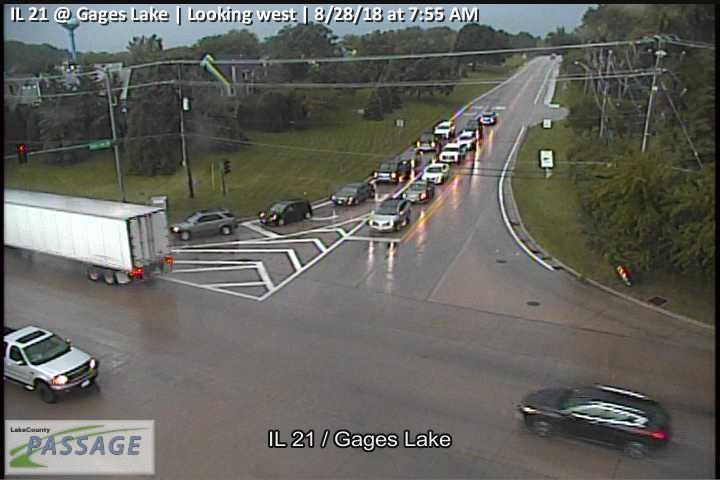SUV: (517, 383, 673, 459), (169, 208, 239, 241), (258, 197, 313, 226), (367, 199, 412, 232), (416, 133, 441, 150), (457, 130, 477, 151), (433, 120, 456, 138), (462, 120, 483, 136)
Sedan: (331, 181, 374, 206), (403, 179, 435, 204), (421, 162, 451, 185), (479, 111, 497, 125)
Truck: (2, 188, 175, 286), (1, 324, 100, 404), (373, 157, 412, 184), (439, 142, 468, 165)
